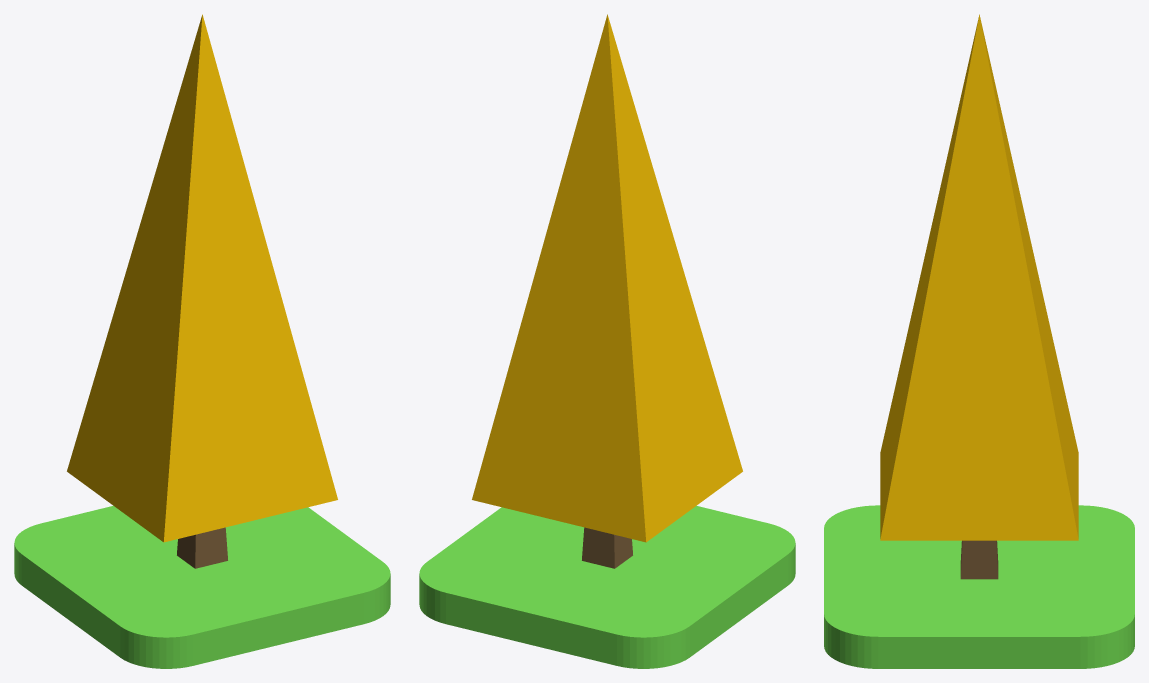
The model's file is Tree2.fbx.
The picture shows the model from 3 angles, left to right: view 1: azimuth 30°, elevation 25°; view 2: azimuth 150°, elevation 25°; view 3: azimuth 270°, elevation 25°; orthographic projection. The views are drawn at different scales.
Visible parts, largest first — view 1: Cube.017, Cube, Cube.003; view 2: Cube.017, Cube, Cube.003; view 3: Cube.017, Cube, Cube.003.
Part boxes in pixels (bbox=[...]): Cube.017: bbox=[67, 14, 337, 542]; Cube: bbox=[14, 505, 390, 668]; Cube.003: bbox=[177, 527, 227, 568]; Cube.017: bbox=[472, 14, 742, 542]; Cube: bbox=[419, 505, 795, 668]; Cube.003: bbox=[582, 527, 632, 568]; Cube.017: bbox=[880, 14, 1078, 540]; Cube: bbox=[824, 505, 1134, 668]; Cube.003: bbox=[960, 540, 998, 579].
Size of the model in its own units: 200 by 418 by 200.
